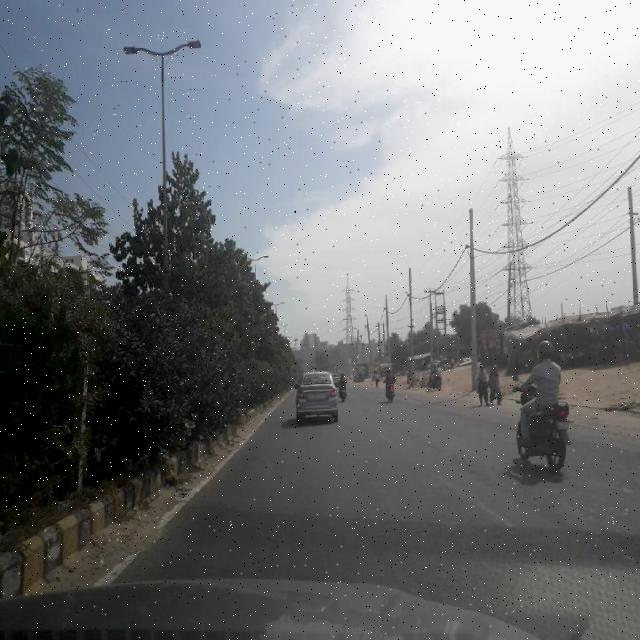D20: (187, 451, 608, 586)
D44: (428, 460, 513, 524)
